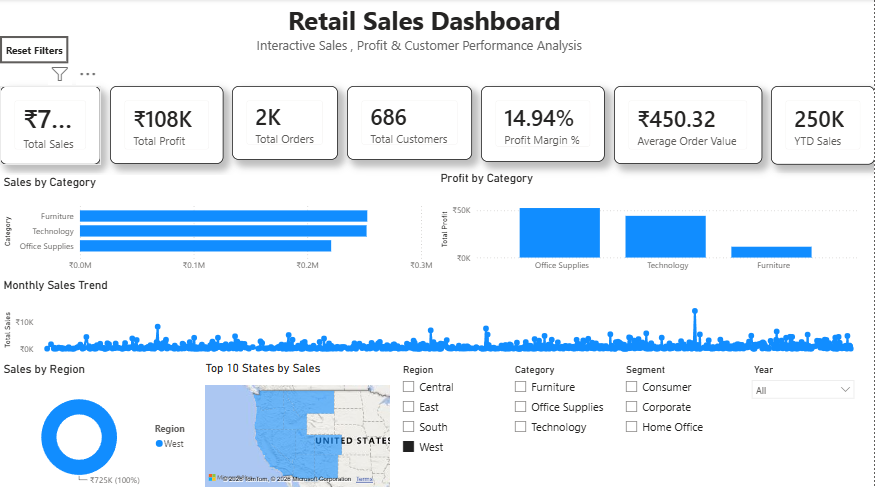

The dashboard page shown, as its layout file describes it:
{"tool":"powerbi","page":{"name":"Retail Sales Dashboard","canvas":[1280,720],"ordinal":0},"visuals":[{"type":"cardVisual","title":"Total Sales","fields":{"Data":["Sample - Superstore.Total Sales"]},"box":[0,127.7,147.3,114.6],"z":0},{"type":"cardVisual","fields":{"Data":["Sample - Superstore.Total Profit"]},"box":[160.4,127.7,166.3,114.2],"z":1000},{"type":"cardVisual","fields":{"Data":["Sample - Superstore.Total Orders"]},"box":[339.8,127.7,154.5,107.5],"z":2000},{"type":"clusteredBarChart","title":"Sales by Category","fields":{"Category":["Sample - Superstore.Category"],"Y":["Sample - Superstore.Total Sales"]},"box":[0,257,638.4,150.6],"z":3000},{"type":"clusteredColumnChart","title":"Profit by Category","fields":{"Category":["Sample - Superstore.Category"],"Y":["Sample - Superstore.Total Profit"]},"box":[640,252.1,621.7,156.7],"z":4000},{"type":"donutChart","title":"Sales by Region","fields":{"Category":["Sample - Superstore.Region"],"Y":["Sample - Superstore.Total Sales"]},"box":[0,530.8,295.6,189.8],"z":5000},{"type":"filledMap","title":"Top 10 States by Sales","fields":{"Category":["Sample - Superstore.State"]},"box":[296.3,530.3,279.9,189.9],"z":6000},{"type":"slicer","fields":{"Values":["Sample - Superstore.Region"]},"box":[576.2,530.2,164.6,189.8],"z":7000},{"type":"slicer","fields":{"Values":["Sample - Superstore.Category"]},"box":[740.7,530.2,162.9,189.8],"z":8000},{"type":"cardVisual","fields":{"Data":["Sample - Superstore.Total Customers"]},"box":[507.4,127.7,183.1,107.5],"z":9000},{"type":"cardVisual","fields":{"Data":["Sample - Superstore.Profit Margin %"]},"box":[703.5,127.7,181.4,110.9],"z":10000},{"type":"cardVisual","fields":{"Data":["Sample - Superstore.Average Order Value"]},"box":[898,127.7,216.7,114.2],"z":11000},{"type":"lineChart","title":"Monthly Sales Trend","fields":{"Category":["Sample - Superstore.Order Date"],"Y":["Sample - Superstore.Total Sales"]},"box":[0,407.6,1260,121.7],"z":12000},{"type":"slicer","fields":{"Values":["Sample - Superstore.Segment"]},"box":[903.6,530.1,186.6,189.9],"z":13000},{"type":"slicer","fields":{"Values":["DateTable.Year"]},"box":[1090.1,530.3,169.7,77.3],"z":14000},{"type":"cardVisual","fields":{"Data":["DateTable.YTD Sales"]},"box":[1127.8,127.7,152.2,114.6],"z":15000},{"type":"textbox","box":[99.8,0,1027.9,108],"z":16000},{"type":"actionButton","box":[0,54.8,100,40],"z":17000}]}

Visuals, with their boxes in screenshot pixels (x1, y1, x2, y2), scaled from the page's 1280x720 canvas onto the 875x488 screenshot:
"Total Sales" cardVisual: locate(0, 87, 101, 164)
cardVisual - Sample - Superstore.Total Profit: locate(110, 87, 223, 164)
cardVisual - Sample - Superstore.Total Orders: locate(232, 87, 338, 159)
"Sales by Category" clusteredBarChart: locate(0, 174, 436, 276)
"Profit by Category" clusteredColumnChart: locate(438, 171, 862, 277)
"Sales by Region" donutChart: locate(0, 360, 202, 487)
"Top 10 States by Sales" filledMap: locate(203, 359, 394, 487)
slicer - Sample - Superstore.Region: locate(394, 359, 506, 487)
slicer - Sample - Superstore.Category: locate(506, 359, 618, 487)
cardVisual - Sample - Superstore.Total Customers: locate(347, 87, 472, 159)
cardVisual - Sample - Superstore.Profit Margin %: locate(481, 87, 605, 162)
cardVisual - Sample - Superstore.Average Order Value: locate(614, 87, 762, 164)
"Monthly Sales Trend" lineChart: locate(0, 276, 861, 359)
slicer - Sample - Superstore.Segment: locate(618, 359, 745, 487)
slicer - DateTable.Year: locate(745, 359, 861, 412)
cardVisual - DateTable.YTD Sales: locate(771, 87, 874, 164)
textbox: locate(68, 0, 771, 73)
actionButton: locate(0, 37, 68, 64)
